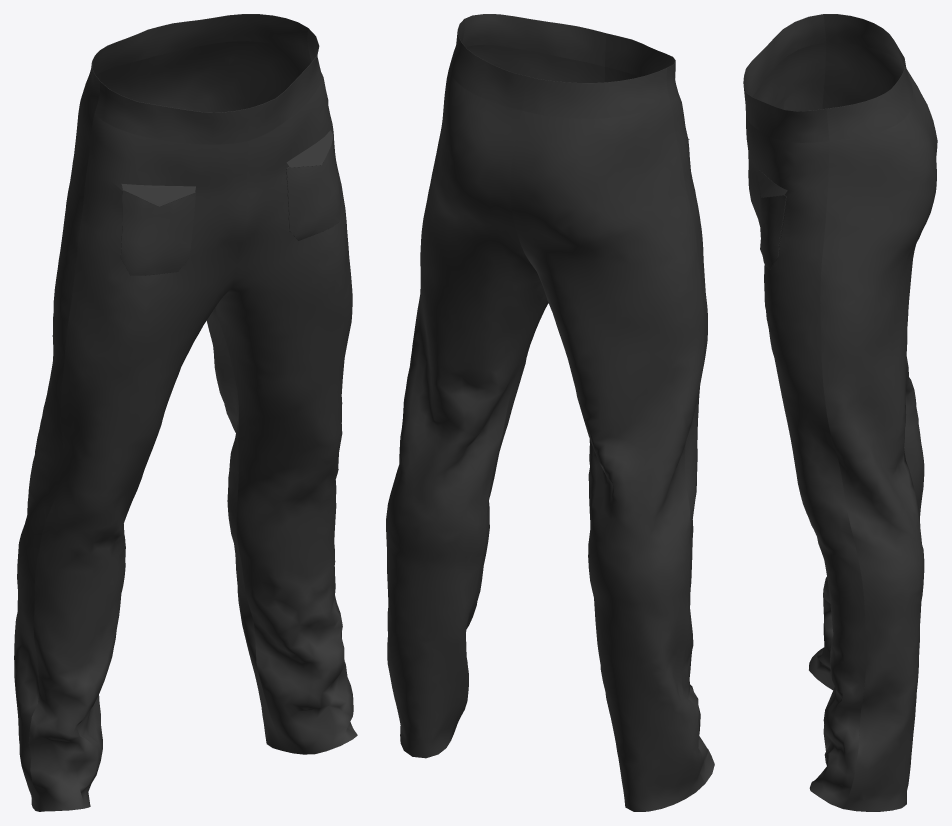
Rendered from VTYngPants.glb.
3 renders of one model, left to right at view 1: azimuth 30°, elevation 25°; view 2: azimuth 150°, elevation 25°; view 3: azimuth 270°, elevation 25°, orthographic. The views are drawn at different scales.
Visible parts, largest first — view 1: VTYngPants; view 2: VTYngPants; view 3: VTYngPants.
Boxes of the visible parts, <box> form: VTYngPants: <box>14,14,357,811</box>; VTYngPants: <box>386,14,714,811</box>; VTYngPants: <box>743,14,937,811</box>.
Bounding box in the file's own units: 4.95 × 10.93 × 2.78.
1 material, 1 textured.
